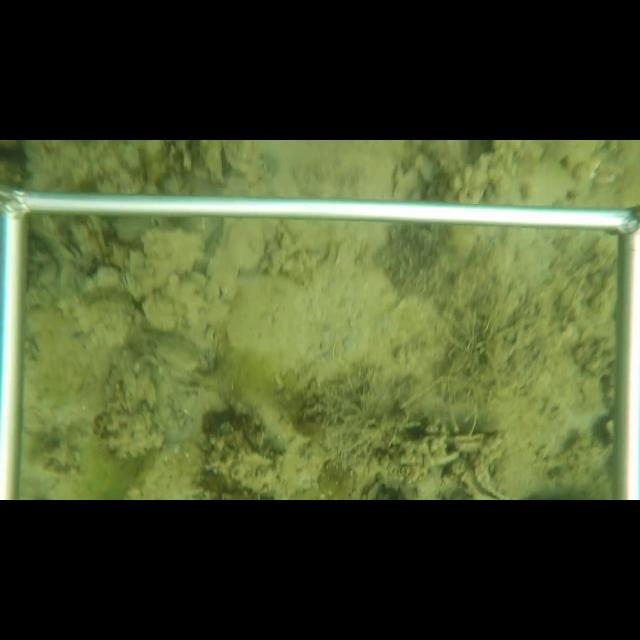Oyster-Closed: (137, 228, 211, 294)
Oyster-Open: (452, 431, 516, 499), (55, 236, 82, 264), (453, 433, 486, 453)
